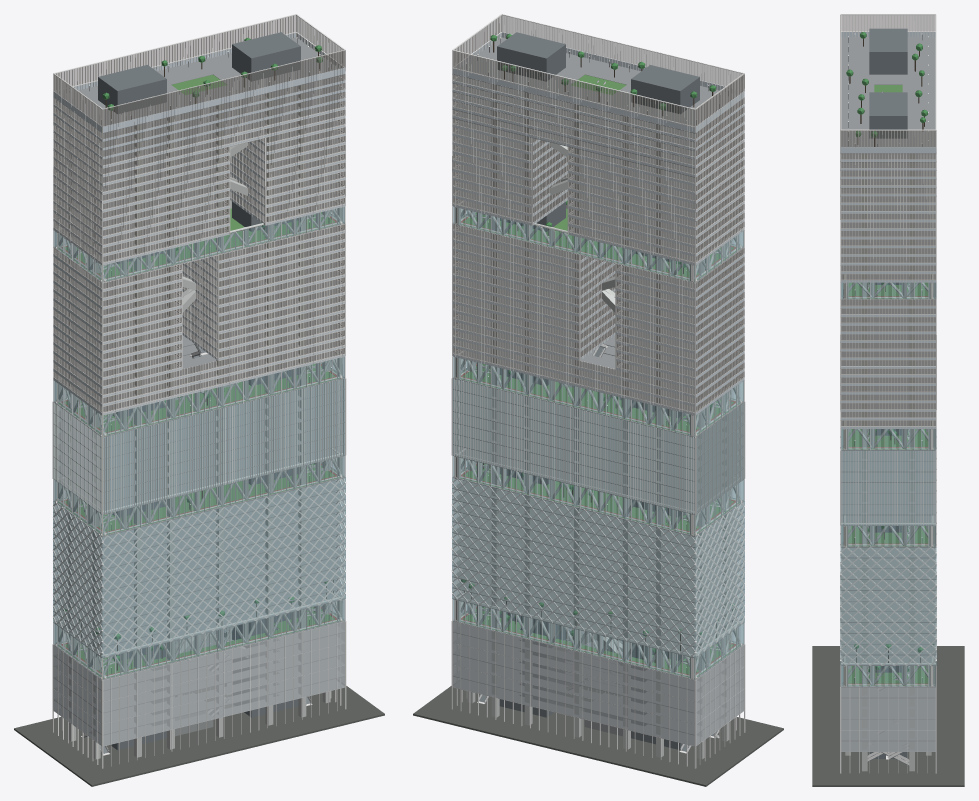
Rendered from the_stack.glb.
3 renders of one model, left to right at view 1: azimuth 30°, elevation 25°; view 2: azimuth 150°, elevation 25°; view 3: azimuth 270°, elevation 25°, orthographic. The views are drawn at different scales.
Parts seen in each view (by area): view 1: Web_Stack_Slabs, Web_Stack_Glass_Cool_Web, Web_Stack_Apartment_Frame, Web_Stack_Glass_Dark_Web, Web_Stack_Core_Steel, Web_Stack_Spandrel_Blue, Web_Stack_Glass_Frost_Web, Web_Stack_Fin, Web_Stack_Frame, Ground_Site, Web_Stack_Core, Web_Stack_Lawn (+2 smaller); view 2: Web_Stack_Slabs, Web_Stack_Glass_Cool_Web, Web_Stack_Apartment_Frame, Web_Stack_Glass_Dark_Web, Web_Stack_Core_Steel, Web_Stack_Spandrel_Blue, Web_Stack_Glass_Frost_Web, Web_Stack_Fin, Web_Stack_Frame, Ground_Site, Web_Stack_Core, Web_Stack_Lawn (+2 smaller); view 3: Web_Stack_Slabs, Web_Stack_Glass_Cool_Web, Web_Stack_Glass_Dark_Web, Web_Stack_Apartment_Frame, Ground_Site, Web_Stack_Core_Steel, Web_Stack_Spandrel_Blue, Web_Stack_Glass_Frost_Web, Web_Stack_Frame, Web_Stack_Core, Web_Stack_Fin, Web_Stack_Lawn (+2 smaller).
Boxes of the visible parts, left/top/right/bottom form: Web_Stack_Slabs: left=53, top=37, right=345, bottom=745; Web_Stack_Glass_Cool_Web: left=53, top=206, right=345, bottom=679; Web_Stack_Apartment_Frame: left=52, top=14, right=346, bottom=768; Web_Stack_Glass_Dark_Web: left=53, top=15, right=344, bottom=412; Web_Stack_Core_Steel: left=55, top=84, right=343, bottom=759; Web_Stack_Spandrel_Blue: left=53, top=33, right=345, bottom=414; Web_Stack_Glass_Frost_Web: left=53, top=621, right=344, bottom=745; Web_Stack_Fin: left=52, top=378, right=346, bottom=514; Web_Stack_Frame: left=52, top=86, right=345, bottom=755; Ground_Site: left=14, top=686, right=384, bottom=786; Web_Stack_Core: left=83, top=32, right=311, bottom=753; Web_Stack_Lawn: left=58, top=74, right=342, bottom=678; Web_Stack_Slabs: left=452, top=37, right=744, bottom=745; Web_Stack_Glass_Cool_Web: left=452, top=206, right=744, bottom=679; Web_Stack_Apartment_Frame: left=451, top=14, right=745, bottom=768; Web_Stack_Glass_Dark_Web: left=453, top=15, right=744, bottom=412; Web_Stack_Core_Steel: left=455, top=84, right=742, bottom=759; Web_Stack_Spandrel_Blue: left=452, top=32, right=744, bottom=415; Web_Stack_Glass_Frost_Web: left=453, top=621, right=744, bottom=745; Web_Stack_Fin: left=451, top=378, right=745, bottom=514; Web_Stack_Frame: left=452, top=80, right=745, bottom=753; Ground_Site: left=413, top=686, right=783, bottom=786; Web_Stack_Core: left=479, top=32, right=723, bottom=751; Web_Stack_Lawn: left=460, top=75, right=739, bottom=678; Web_Stack_Slabs: left=840, top=37, right=936, bottom=751; Web_Stack_Glass_Cool_Web: left=840, top=282, right=936, bottom=686; Web_Stack_Glass_Dark_Web: left=841, top=15, right=935, bottom=426; Web_Stack_Apartment_Frame: left=840, top=14, right=936, bottom=773; Ground_Site: left=812, top=646, right=964, bottom=786; Web_Stack_Core_Steel: left=841, top=153, right=935, bottom=771; Web_Stack_Spandrel_Blue: left=840, top=32, right=936, bottom=428; Web_Stack_Glass_Frost_Web: left=841, top=687, right=935, bottom=751; Web_Stack_Frame: left=840, top=92, right=936, bottom=765; Web_Stack_Core: left=868, top=28, right=908, bottom=765; Web_Stack_Fin: left=840, top=335, right=936, bottom=525; Web_Stack_Lawn: left=848, top=85, right=928, bottom=685.
Bounding box in the file's own units: 139 × 300 × 64.
